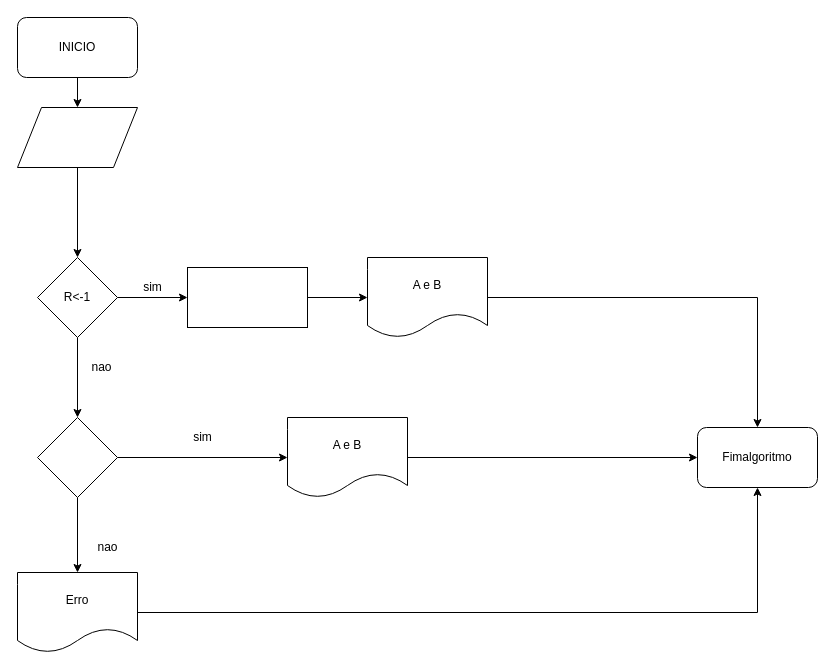
Some shapes in this 835 by 670 pixel diagram are drawn without their labels. Each missing label, with the centre of its shape:
"GT<-A A<-B B<-GT" belongs at point 247,297.
"Leia A,B,R,GT" belongs at point 77,137.
"R<-2" belongs at point 77,457.
